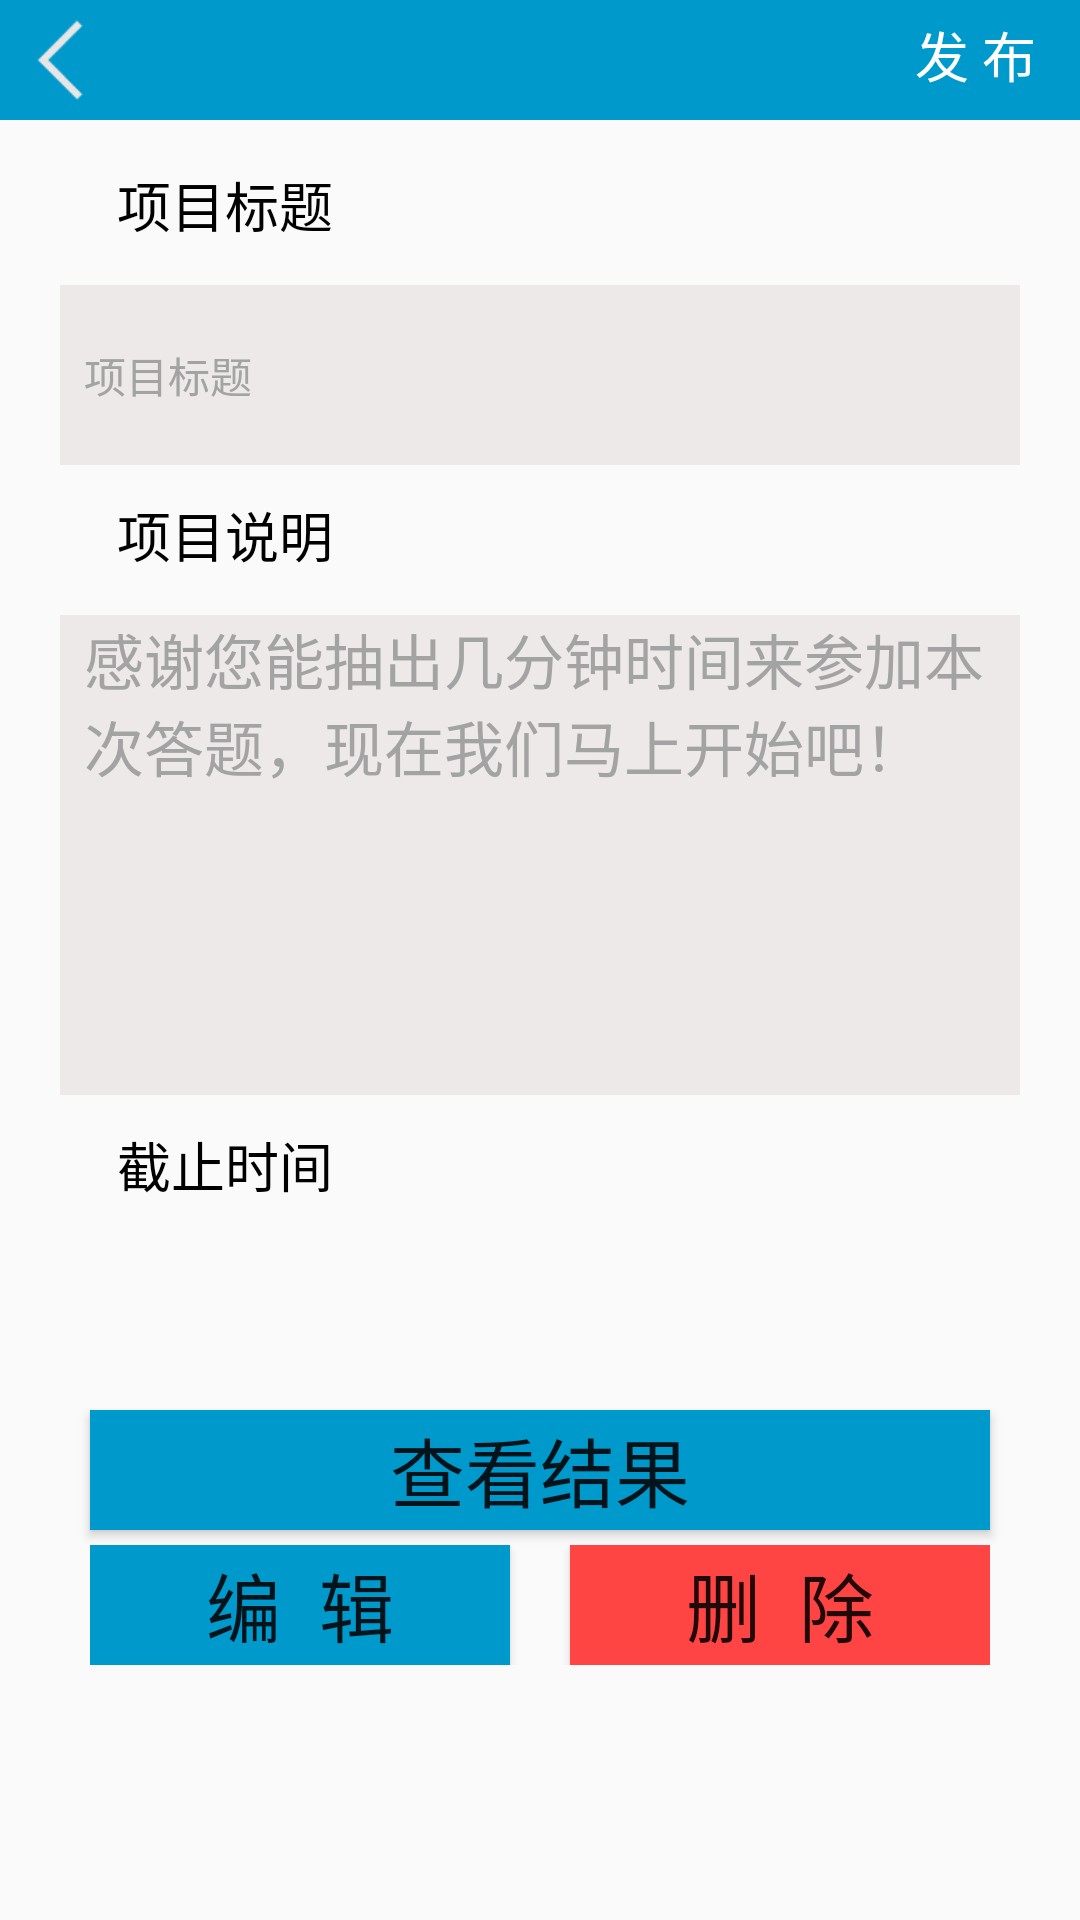

Screen size 1080 × 1920. Icon name, then its center in pixels as point (x, y):
back: point (60, 60)
